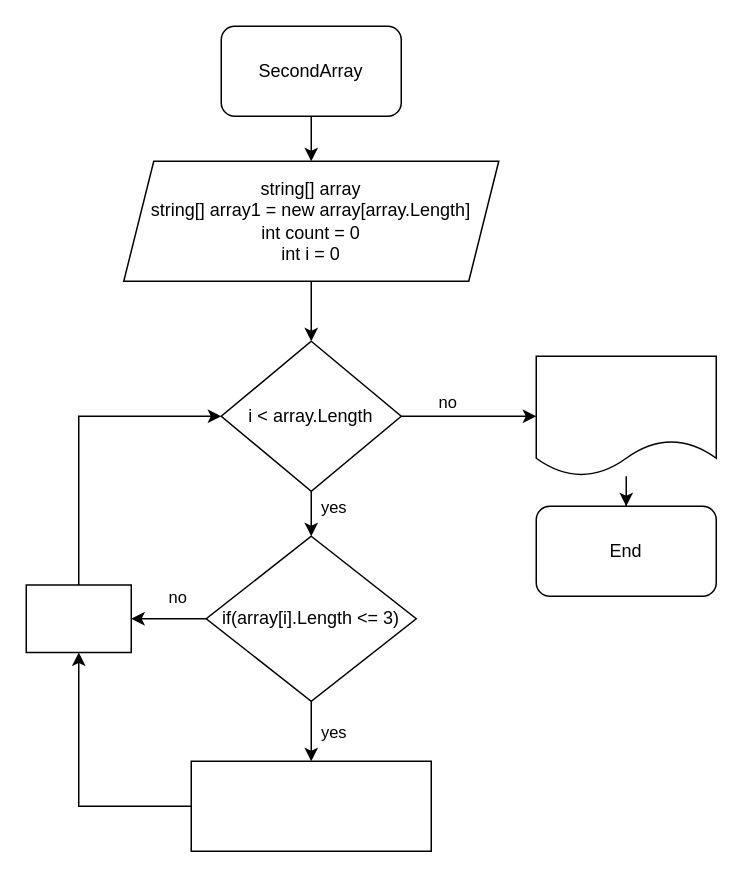
Image size: 743x878. Some labels were removed from this diagram. Here are the shapes that lost their labels. From the top down, the centre of each, then its label:
the point at 625,415: Вывод string[] array1
the point at 78,618: i++
the point at 310,805: array1[count] = array[i] count++
